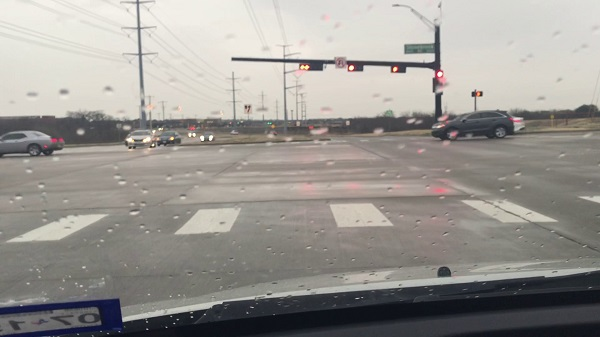car: (433, 111, 512, 140), (4, 130, 63, 155), (126, 128, 154, 149), (159, 132, 180, 144)
